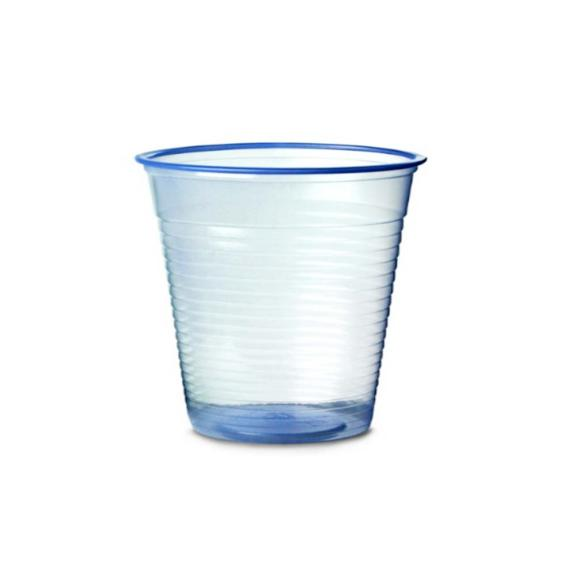Plastik: (137, 143, 425, 442)
